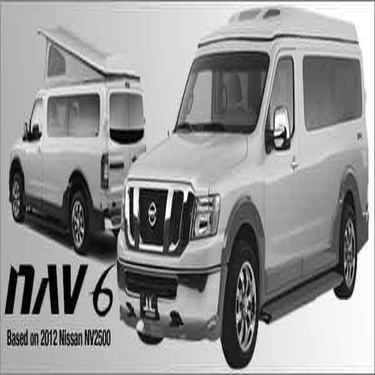car: (98, 5, 372, 368), (3, 70, 150, 259)
